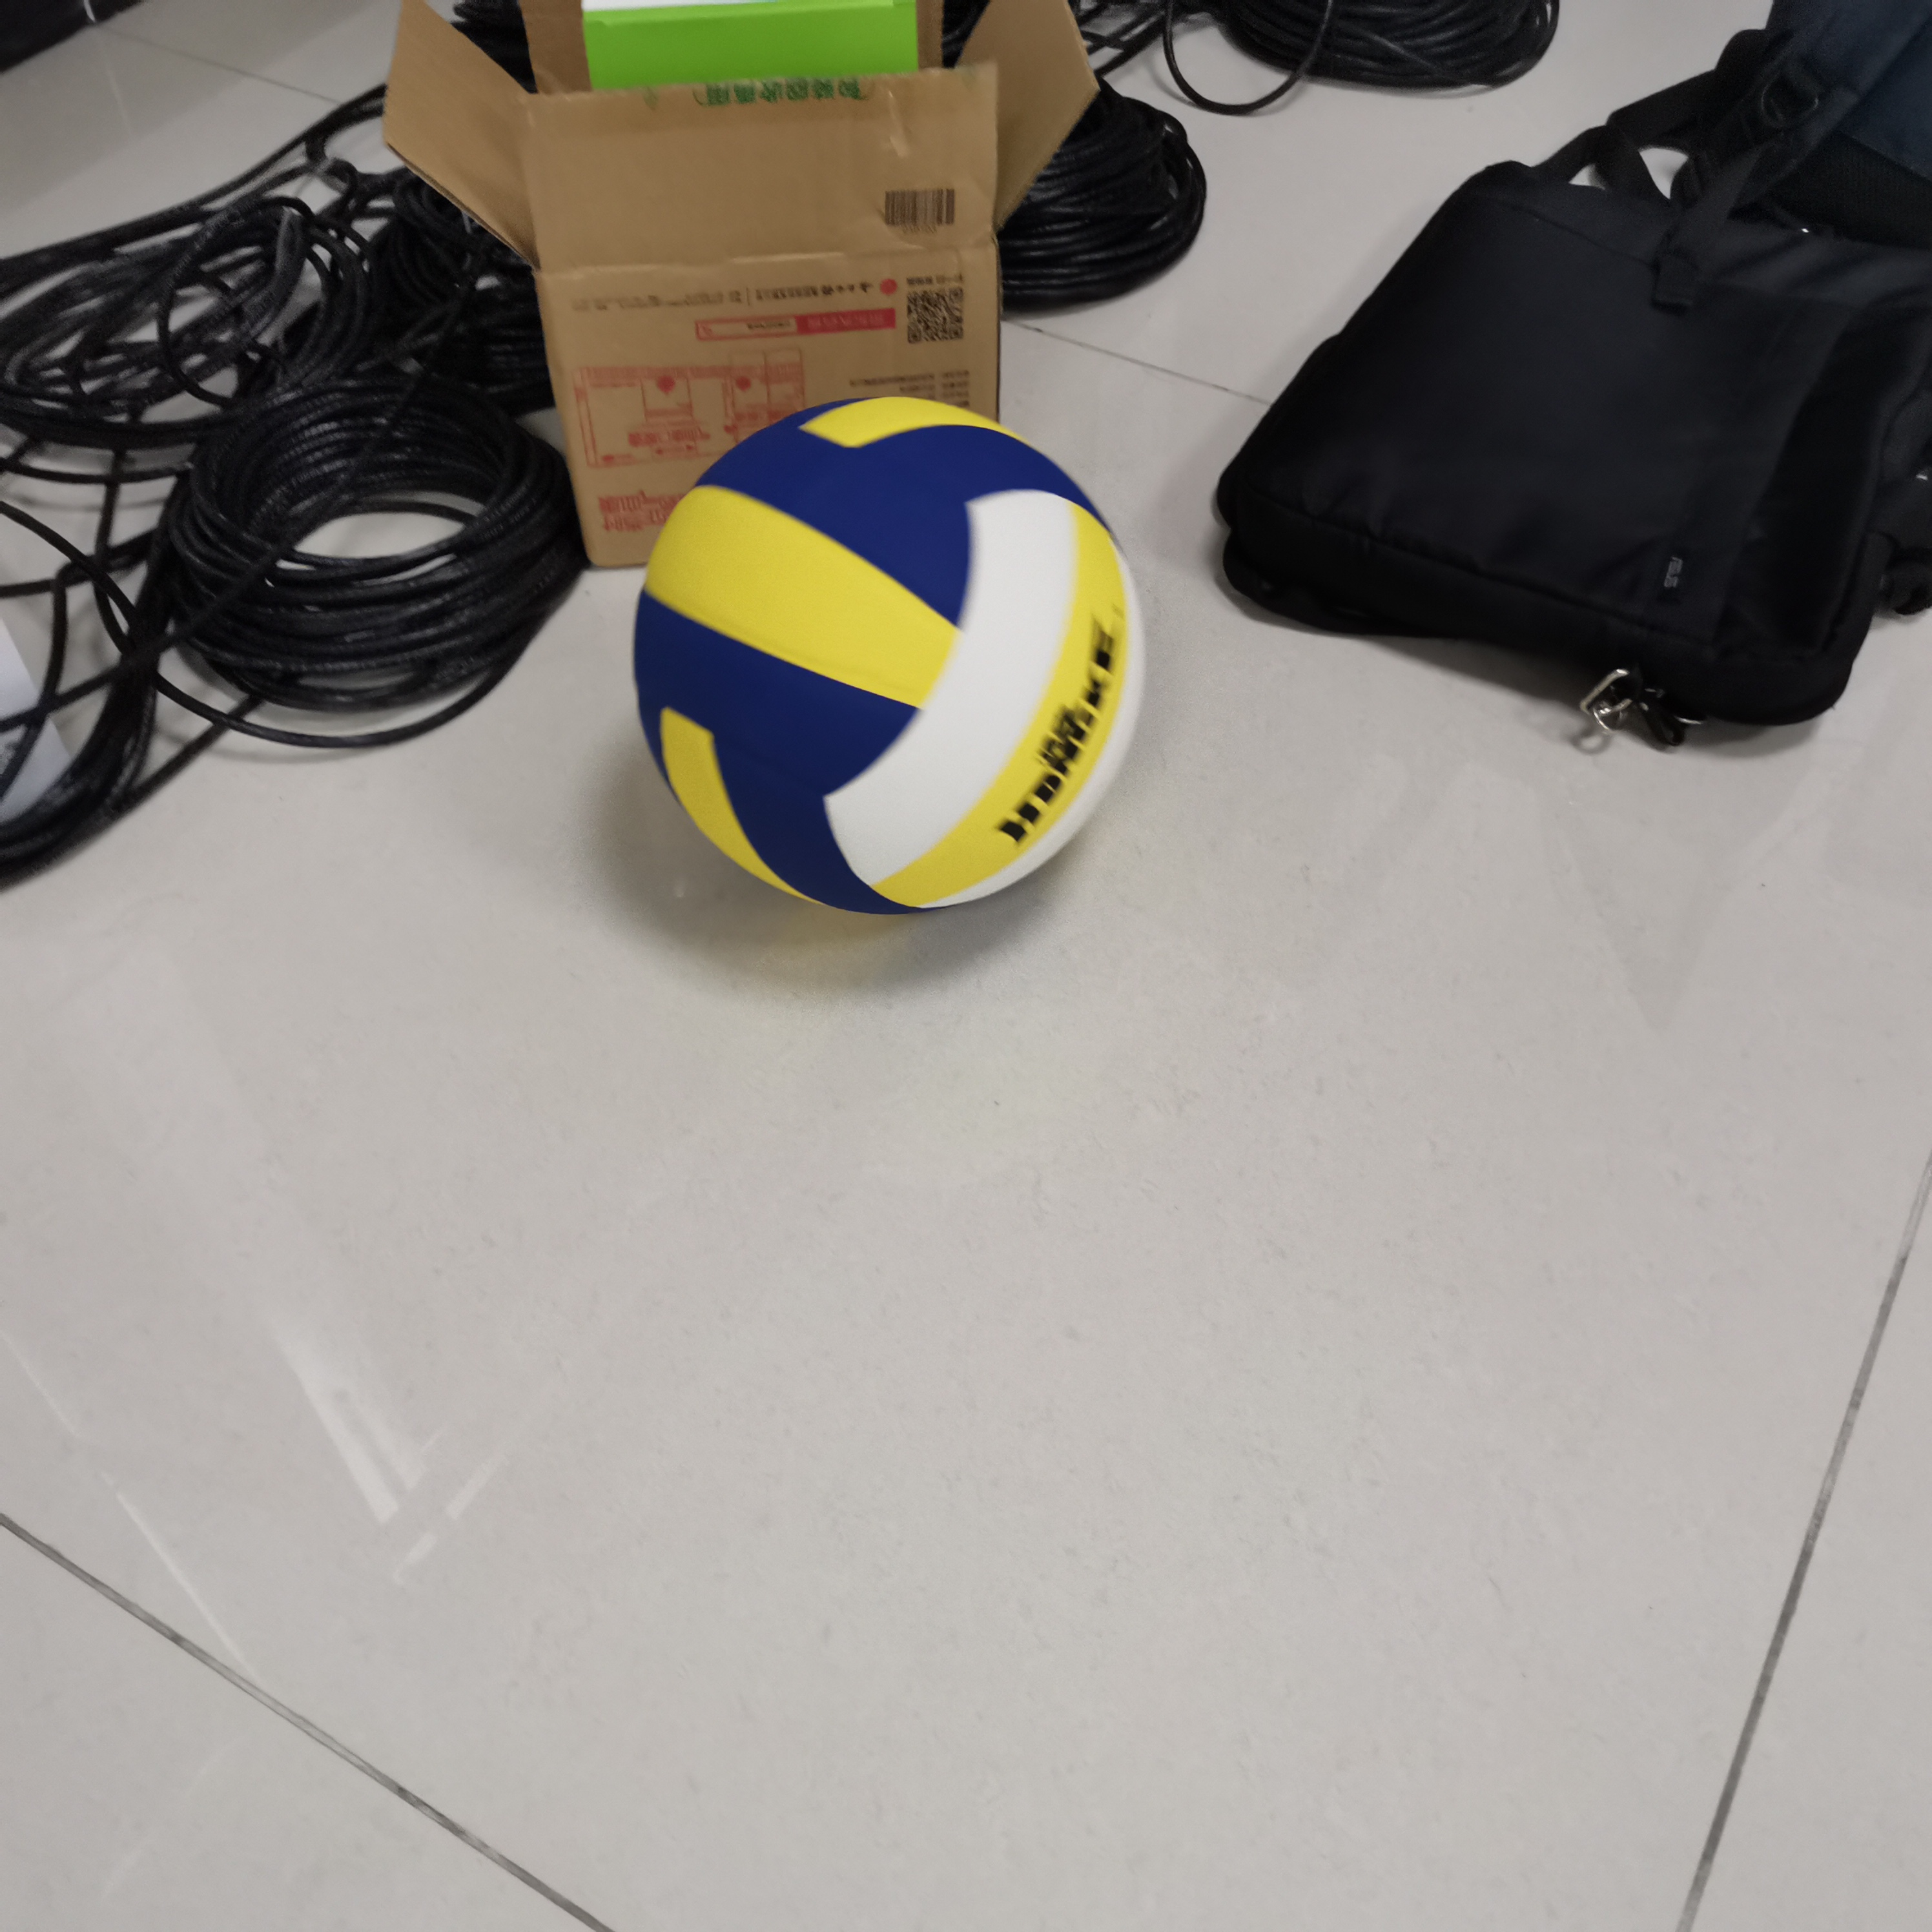volleyball: (633, 398, 1155, 915)
